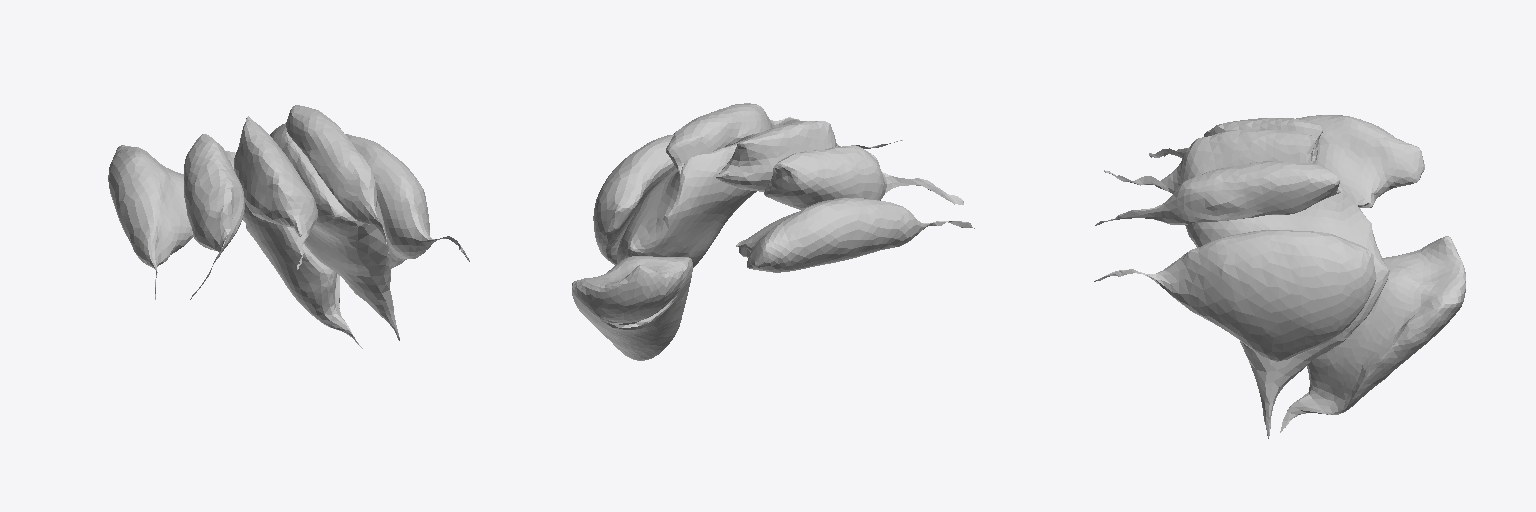
The model's file is rand_6_muscle.obj.
The picture shows the model from 3 angles: view 1: azimuth 30°, elevation 25°; view 2: azimuth 150°, elevation 25°; view 3: azimuth 270°, elevation 25°; orthographic projection.
Bounding box in the file's own units: 82.42 × 63.6 × 86.6.